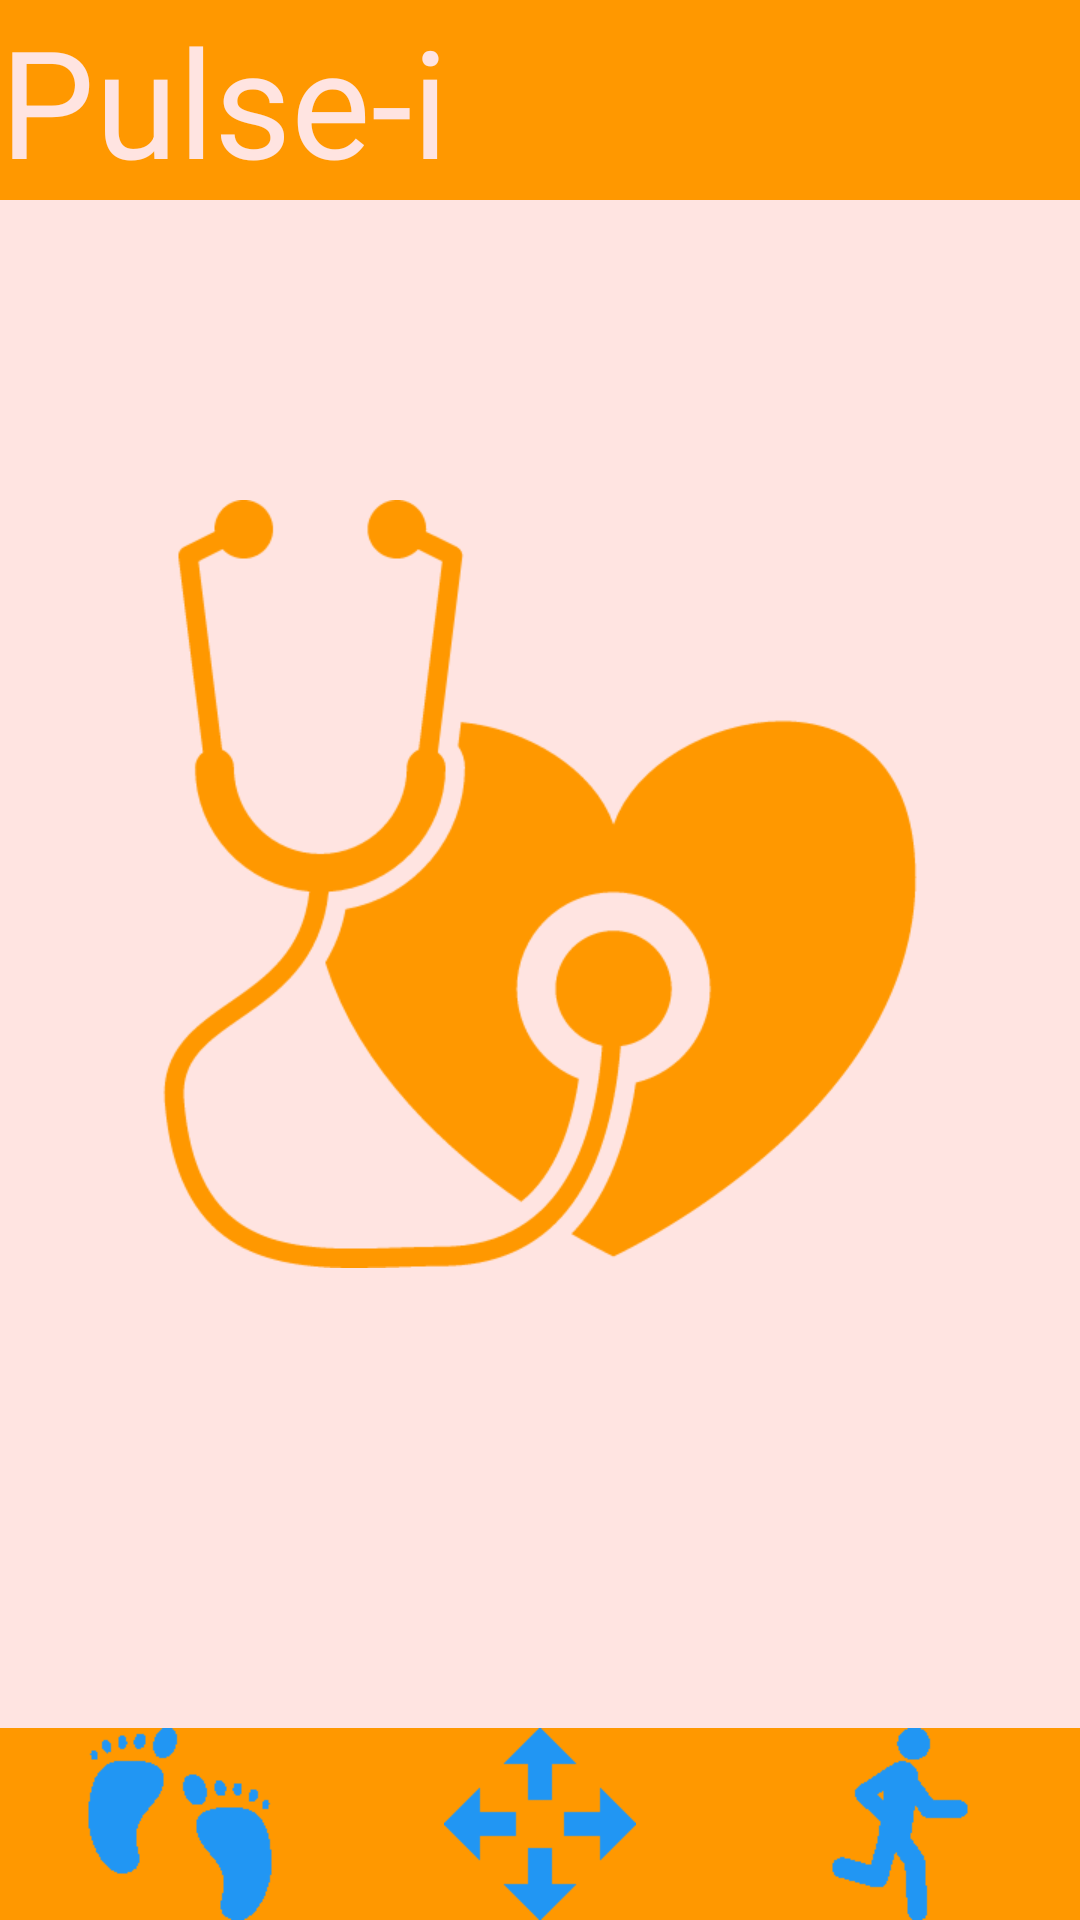

Icons on this 1080 × 1920 Android screen, each with the point to tap as (x,y):
run: (900,1840)
